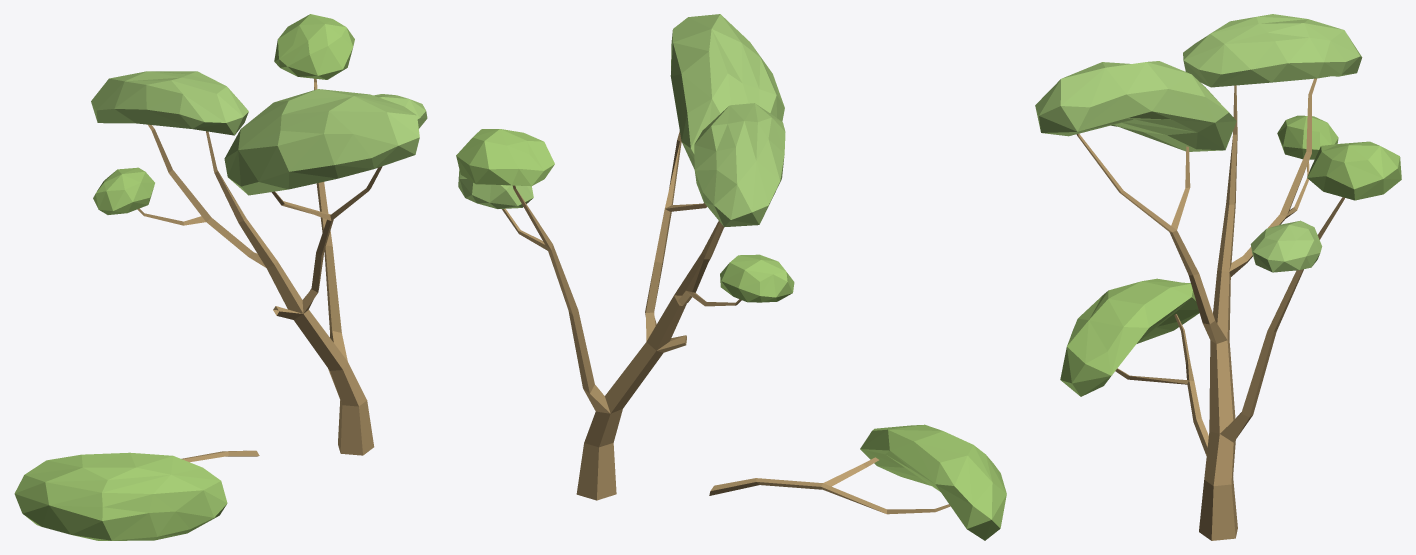
Rendered from Acacia_Tree_crk_l_03_LOD.fbx.
The picture shows the model from 3 angles, left to right: view 1: azimuth 30°, elevation 25°; view 2: azimuth 150°, elevation 25°; view 3: azimuth 270°, elevation 25°; orthographic projection. The views are drawn at different scales.
Visible parts, largest first — view 1: Acacia_Tree_crk_l_03_LOD0; view 2: Acacia_Tree_crk_l_03_LOD0; view 3: Acacia_Tree_crk_l_03_LOD0.
Boxes of the visible parts, left/top/right/bottom form: Acacia_Tree_crk_l_03_LOD0: left=14, top=14, right=427, bottom=540; Acacia_Tree_crk_l_03_LOD0: left=456, top=14, right=1006, bottom=540; Acacia_Tree_crk_l_03_LOD0: left=1035, top=14, right=1401, bottom=540.
Size of what is drawn, in the model's own units: 1368 by 1171 by 891.
